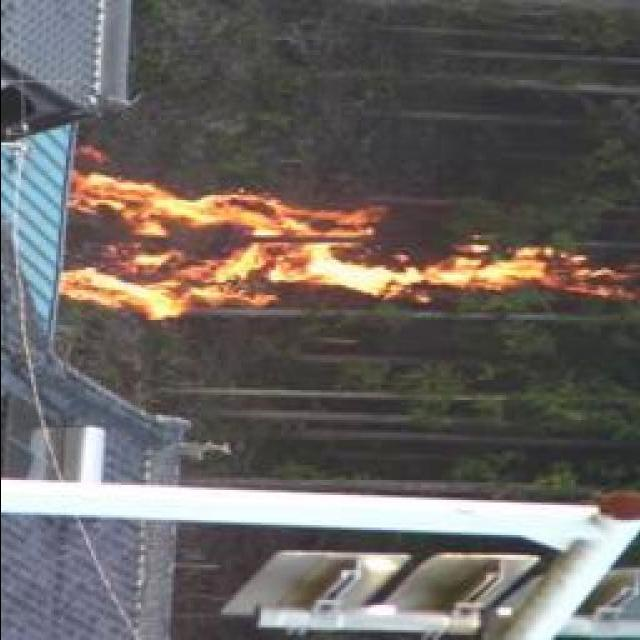Fire: (56, 171, 618, 333)
